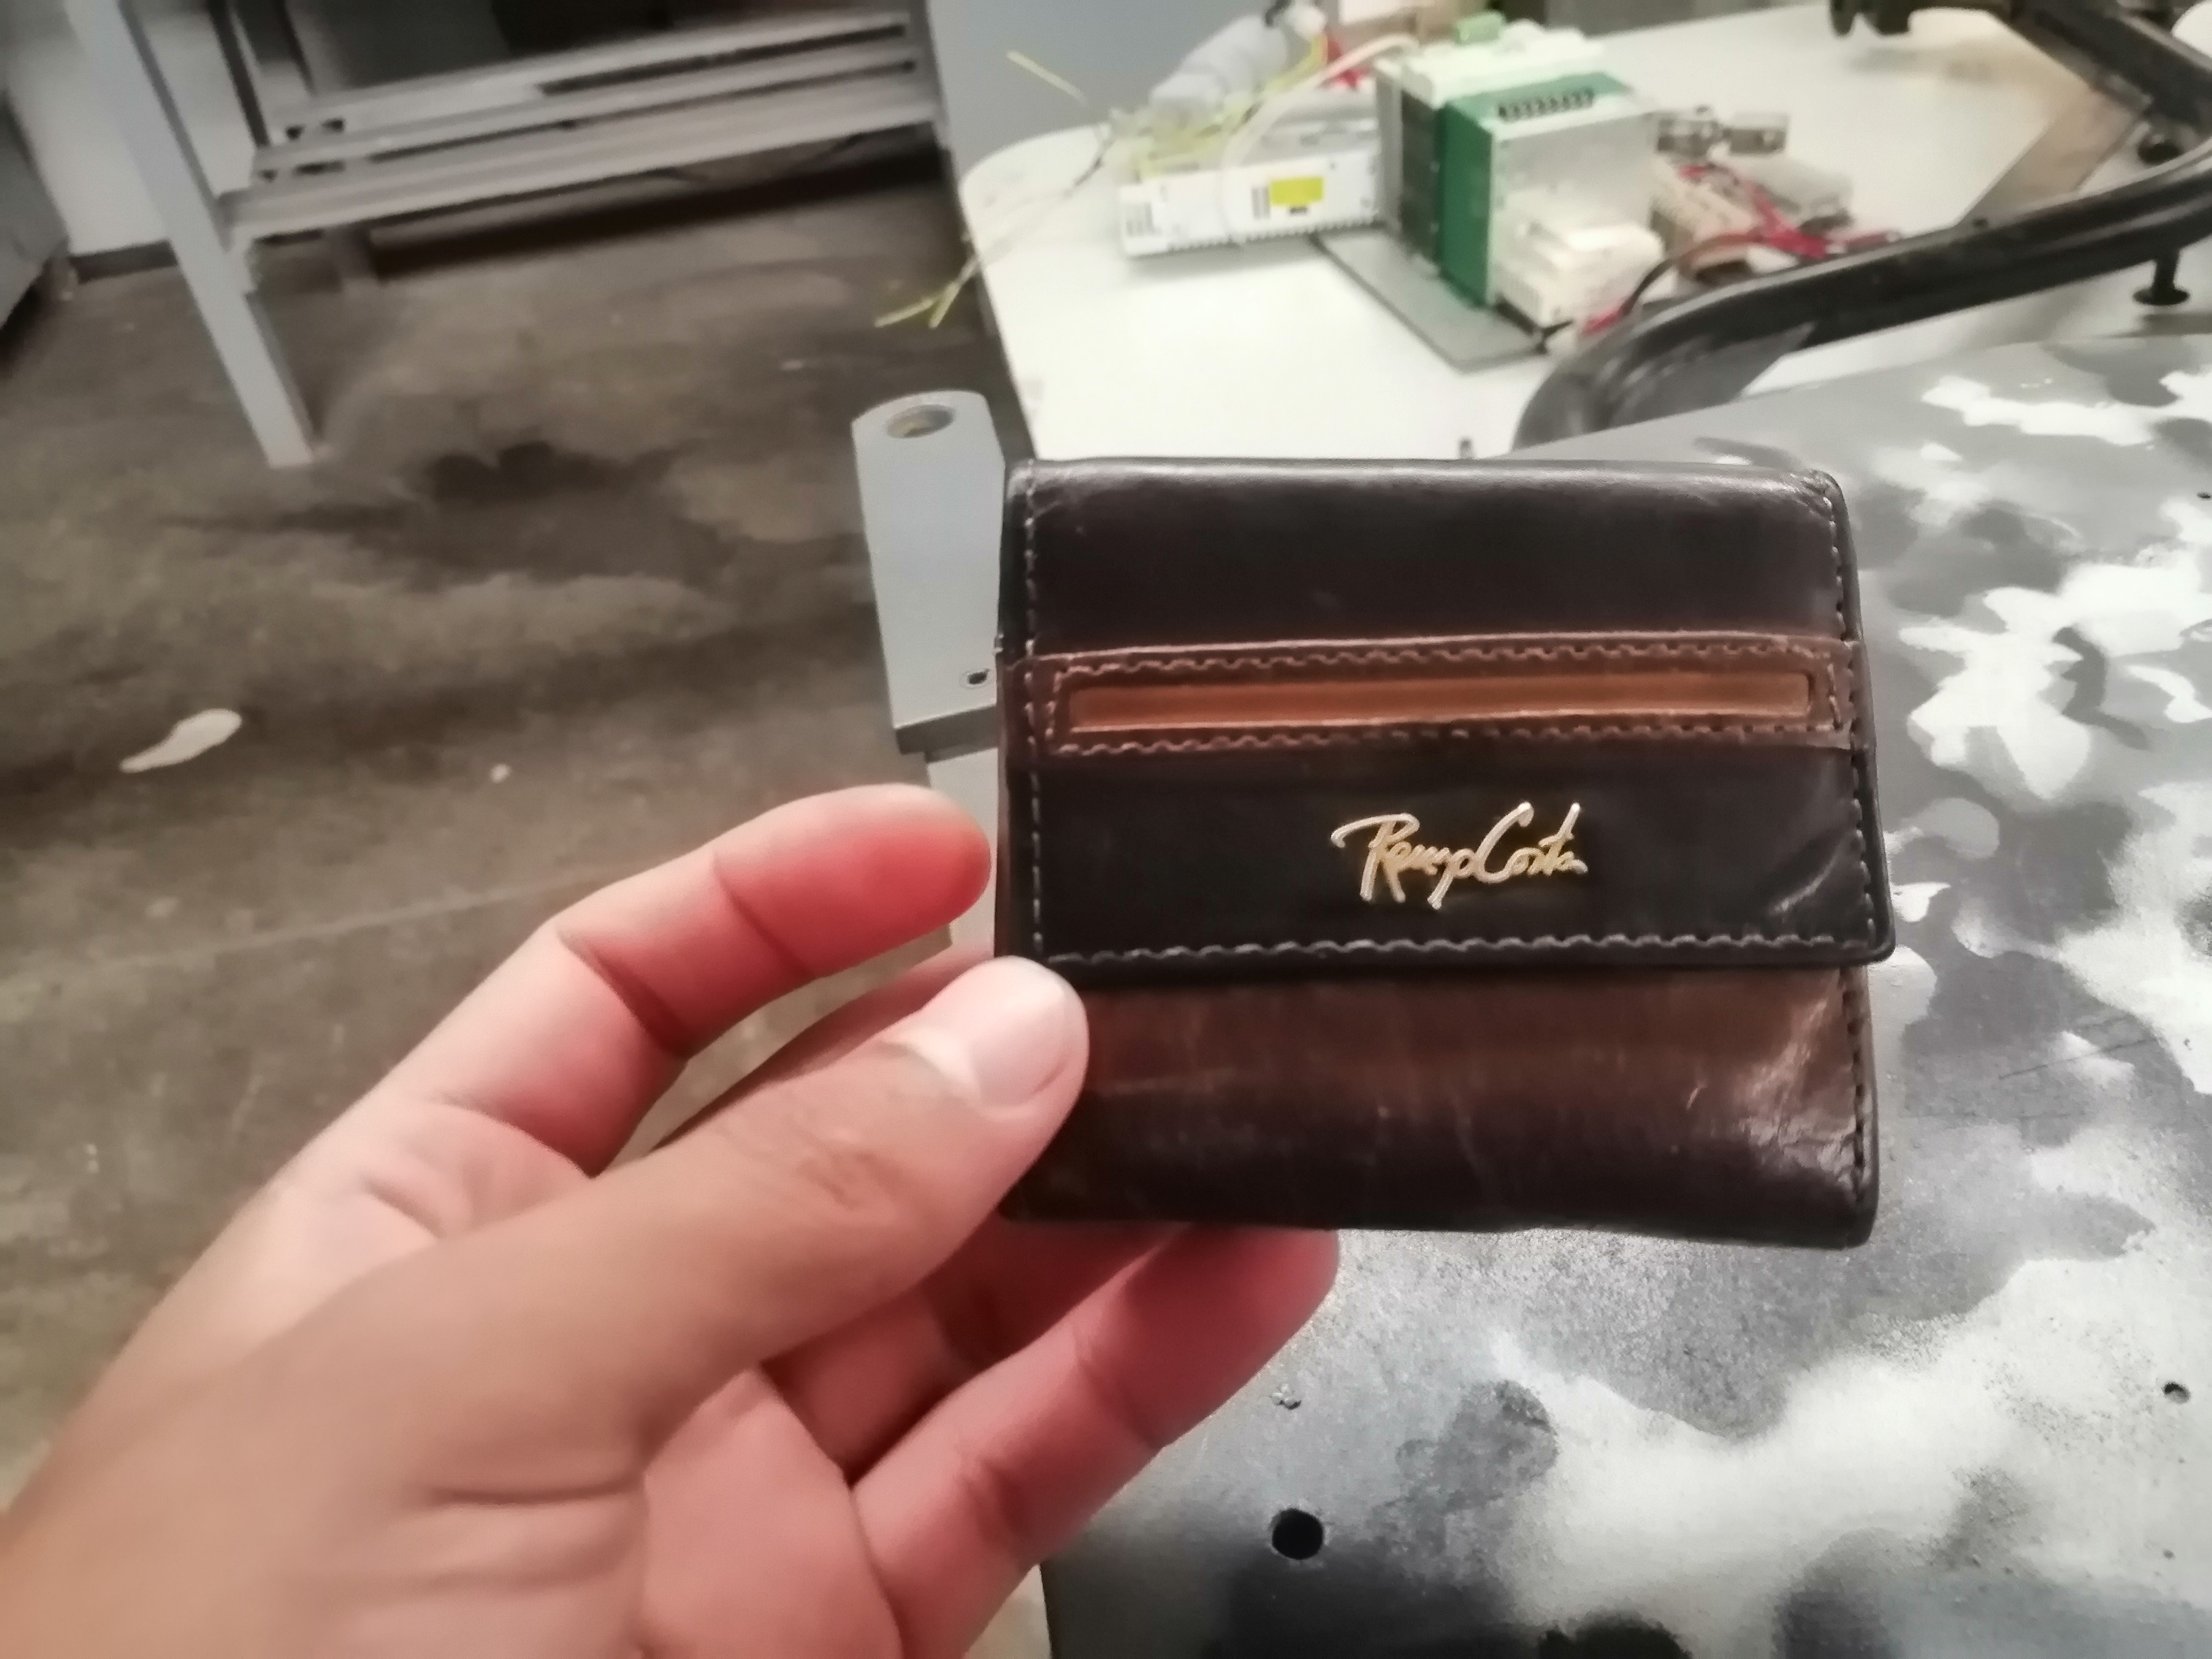monedero: (981, 443, 1916, 1270)
